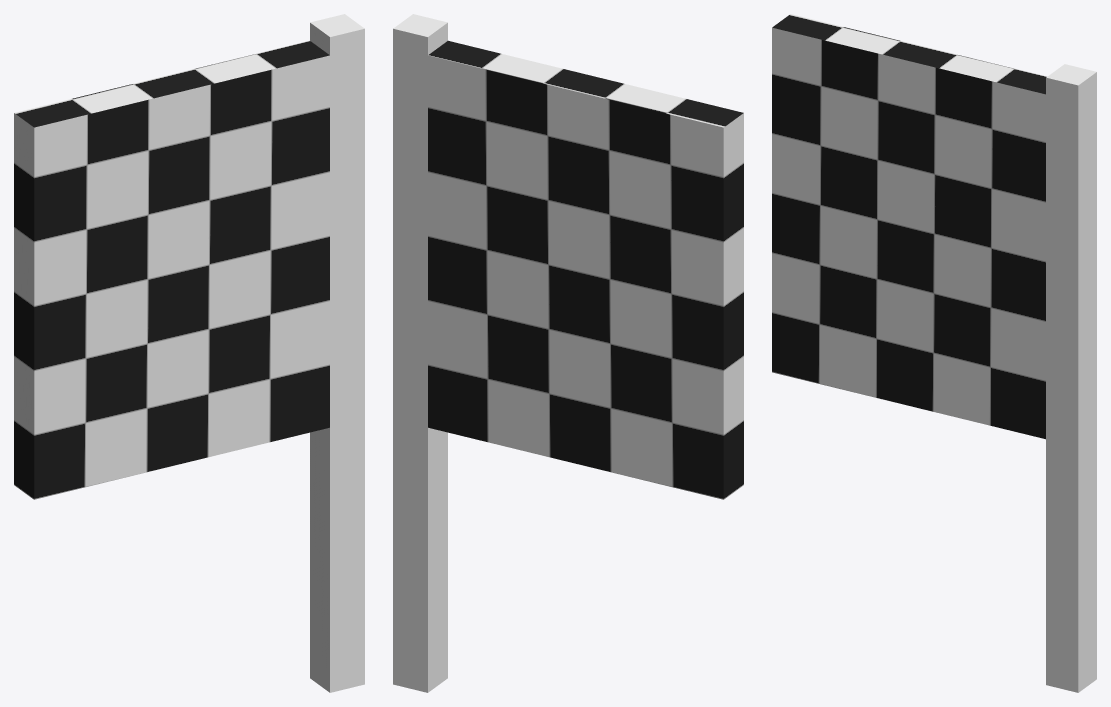
The model's file is flag-checkers-small.glb.
The picture shows the model from 3 angles, left to right: view 1: azimuth 30°, elevation 25°; view 2: azimuth 150°, elevation 25°; view 3: azimuth 330°, elevation 25°; orthographic projection. The views are drawn at different scales.
Parts seen in each view (by area): view 1: flagCheckersSmall; view 2: flagCheckersSmall; view 3: flagCheckersSmall.
Part boxes in pixels (x1=…): flagCheckersSmall: x1=14, y1=14, x2=364, y2=692; flagCheckersSmall: x1=393, y1=14, x2=743, y2=692; flagCheckersSmall: x1=772, y1=14, x2=1096, y2=692.
Bounding box in the file's own units: 1.14 × 2.16 × 0.12.
Materials: 3 (1 with a texture image).
